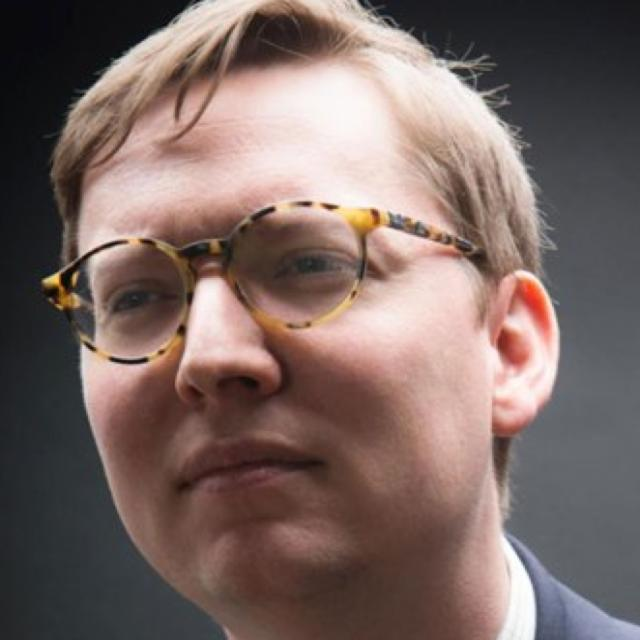human: (34, 4, 640, 637)
